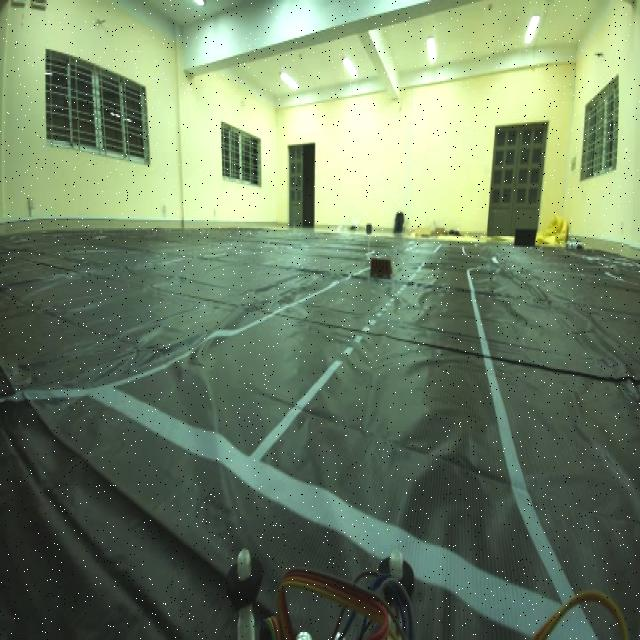roadblock: (367, 250, 394, 285)
